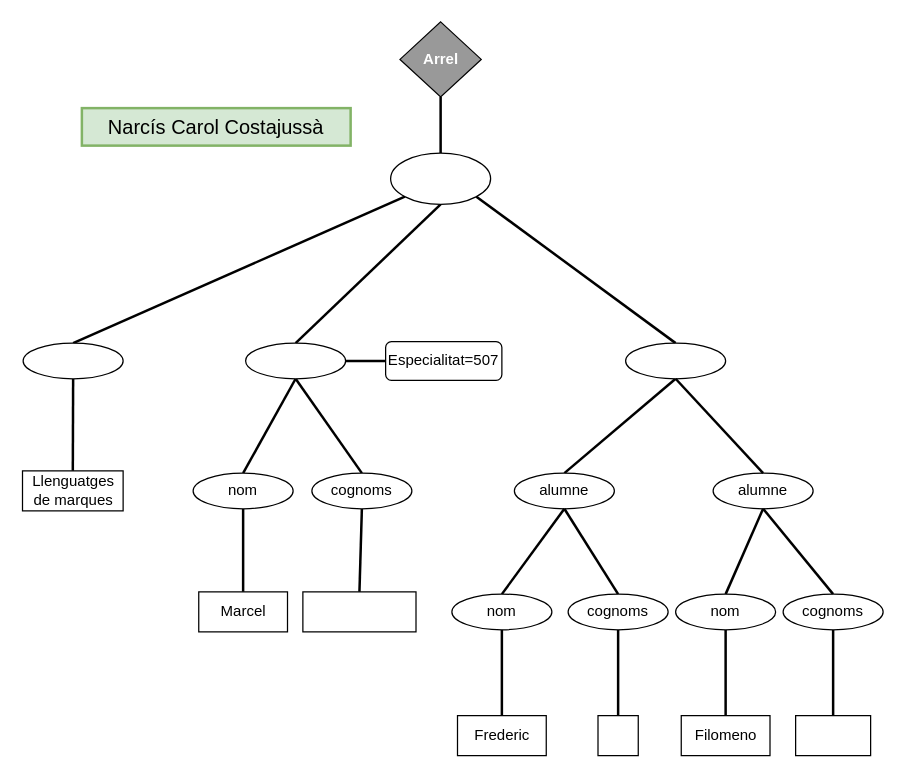
Image size: 905x778. Some labels were removed from this diagram. The box of each missing label's shape, as (x1, y1, x2, y2) in pixels:
alumnes: (624, 342, 726, 379)
assignatura: (22, 342, 123, 379)
classe: (389, 152, 491, 204)
Garcia: (794, 714, 871, 756)
Pi: (597, 714, 638, 756)
professor: (244, 342, 346, 379)
Puig: (302, 591, 416, 632)
